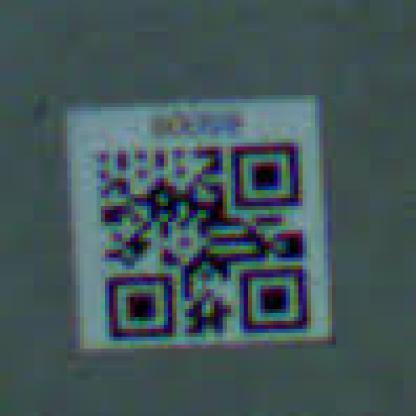qr_code: (96, 142, 308, 338)
